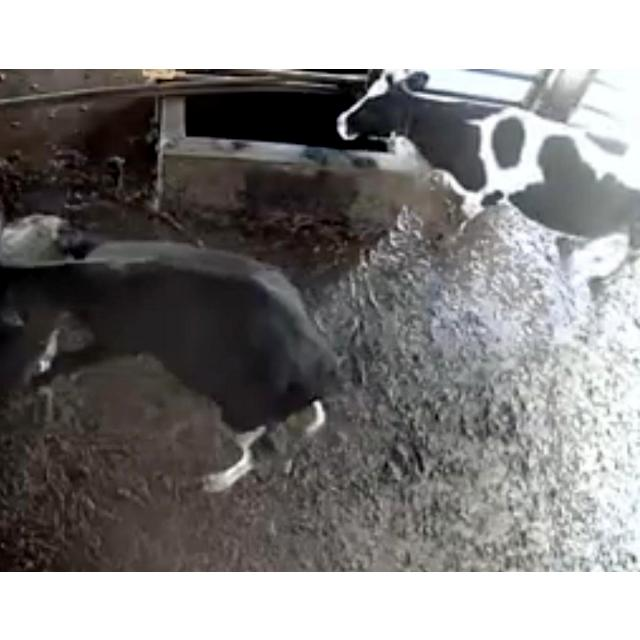drink: (330, 68, 494, 170)
